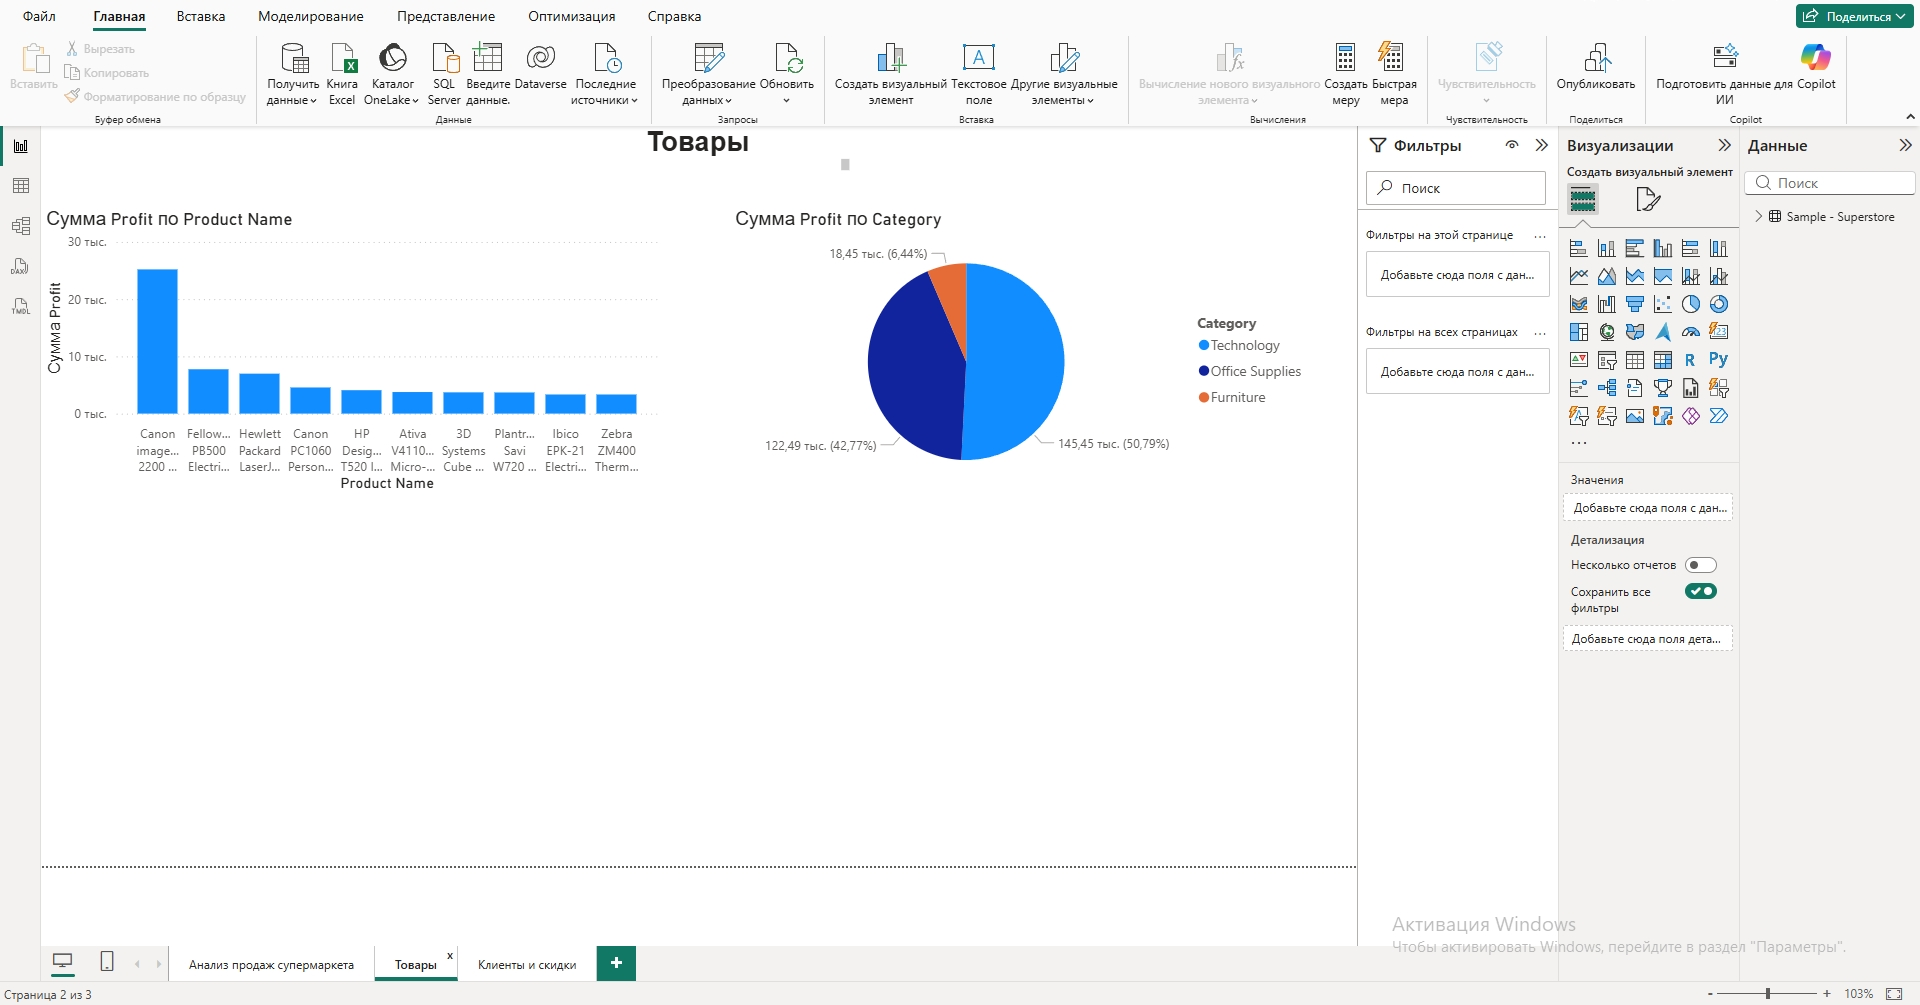

The page's visual inventory and layout, read from the dashboard file:
{"tool":"powerbi","page":{"name":"Товары","canvas":[1280,720],"ordinal":1},"visuals":[{"type":"clusteredColumnChart","fields":{"Category":["Sample - Superstore.Product Name"],"Y":["Sum(Sample - Superstore.Profit)"]},"box":[0,80,604.8,280],"z":0},{"type":"textbox","title":"Товары","box":[487.6,0,303.8,47.6],"z":1},{"type":"pieChart","fields":{"Category":["Sample - Superstore.Category"],"Y":["Sum(Sample - Superstore.Profit)"]},"box":[670.5,80,569.5,280],"z":2}]}

Visuals, with their boxes on the page's 1280x720 design canvas (x1, y1, x2, y2). These are canvas units, not pixel positions in the 1920x1005 screenshot, which may show the page scaled, cropped or inside an application window:
clusteredColumnChart - Sample - Superstore.Product Name x Sum(Sample - Superstore.Profit): 0, 80, 605, 360
"Товары" textbox: 488, 0, 791, 48
pieChart - Sample - Superstore.Category x Sum(Sample - Superstore.Profit): 670, 80, 1240, 360
